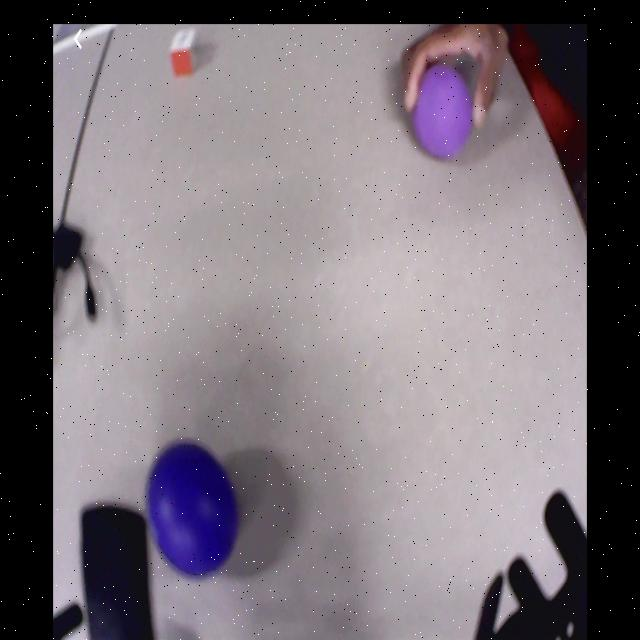ball: (148, 440, 235, 575), (415, 63, 473, 157)
